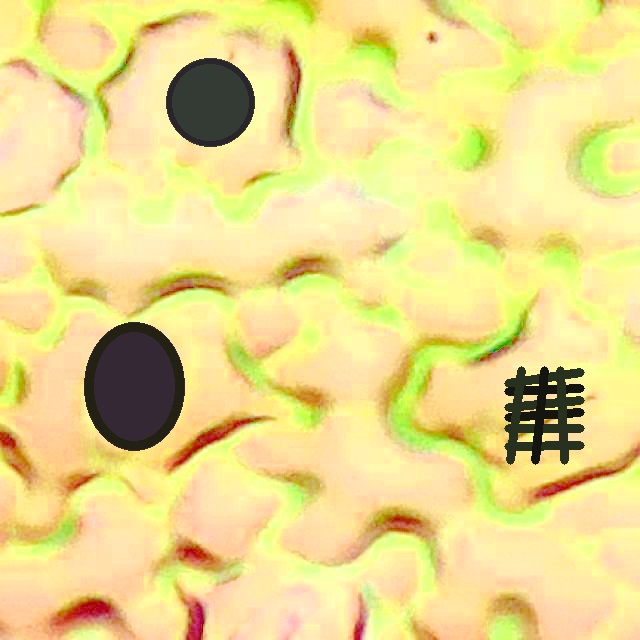close: (84, 322, 183, 449), (504, 366, 583, 464), (166, 59, 253, 145)
